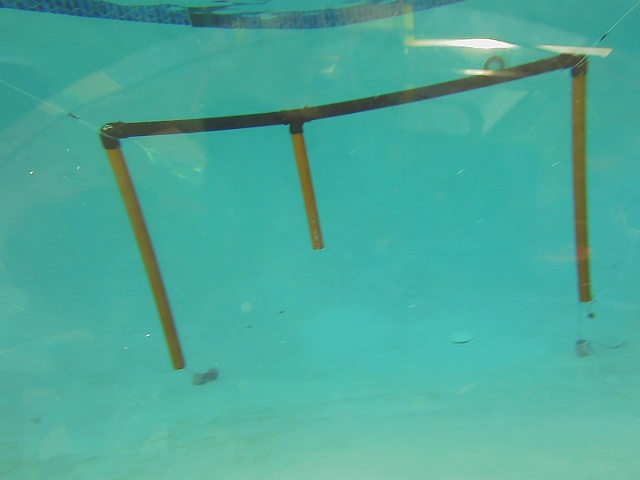Gate: (101, 141, 186, 377), (569, 62, 592, 305), (290, 127, 328, 253)
